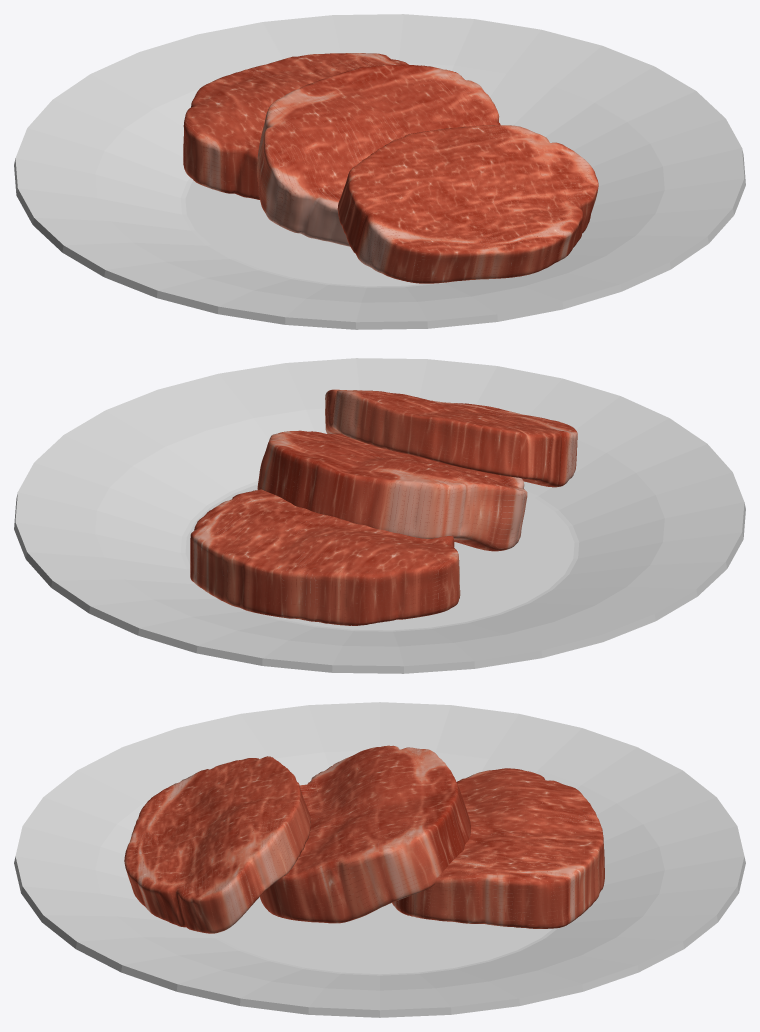
Rendered from trimmed_beef.fbx.
The picture shows the model from 3 angles, top to bottom: view 1: azimuth 30°, elevation 25°; view 2: azimuth 150°, elevation 25°; view 3: azimuth 270°, elevation 25°; orthographic projection.
Visible parts, largest first — view 1: 원형.003, Cube.002, Cube.003, Cube.001; view 2: 원형.003, Cube.001, Cube.003, Cube.002; view 3: 원형.003, Cube.003, Cube.002, Cube.001.
Part boxes in pixels (x1,y1,x2,y2): 원형.003: (14,14,745,329); Cube.002: (337,125,598,283); Cube.003: (257,64,500,246); Cube.001: (183,53,408,199); 원형.003: (14,358,745,673); Cube.001: (190,489,460,625); Cube.003: (257,430,527,551); Cube.002: (325,389,577,487); 원형.003: (14,702,745,1017); Cube.003: (260,745,470,923); Cube.002: (124,756,310,933); Cube.001: (392,768,604,928).
Size of the model in its own units: 279 by 51.86 by 279.
